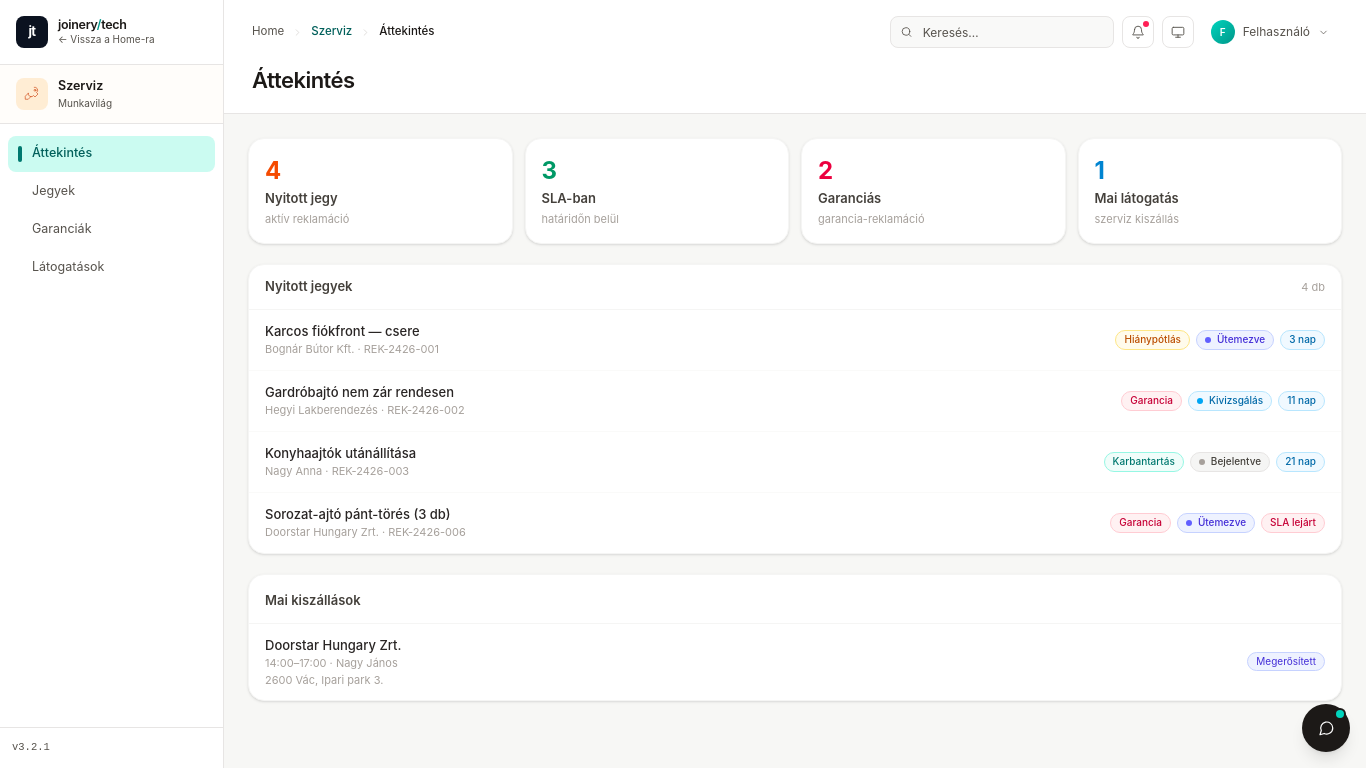
ServicePage — Dashboard › ticket detail shows customer info section
The image size is (1366, 768).
Click the text "Karcos fiókfront — csere" at (342, 330), box [265,322,420,338]
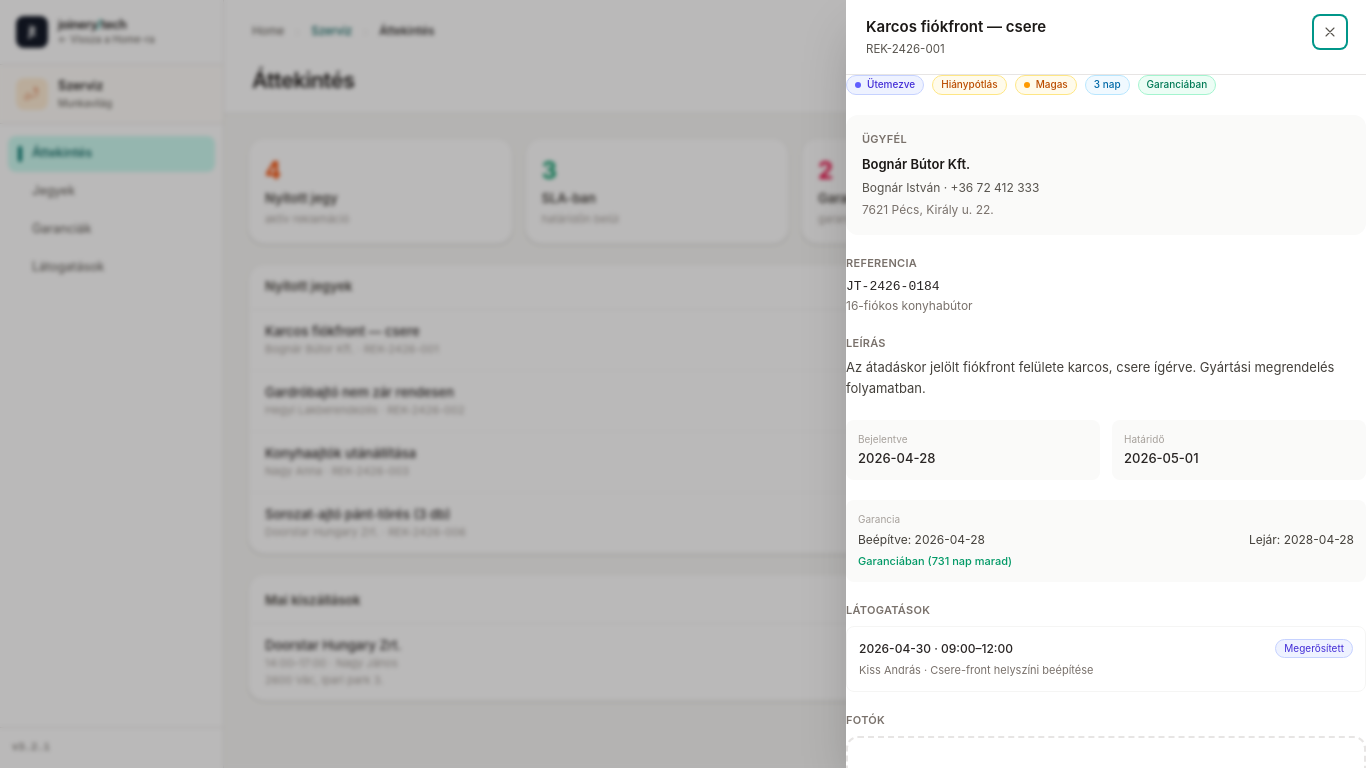
Result: the text "Ügyfél" is shown at [862,132,907,146]
